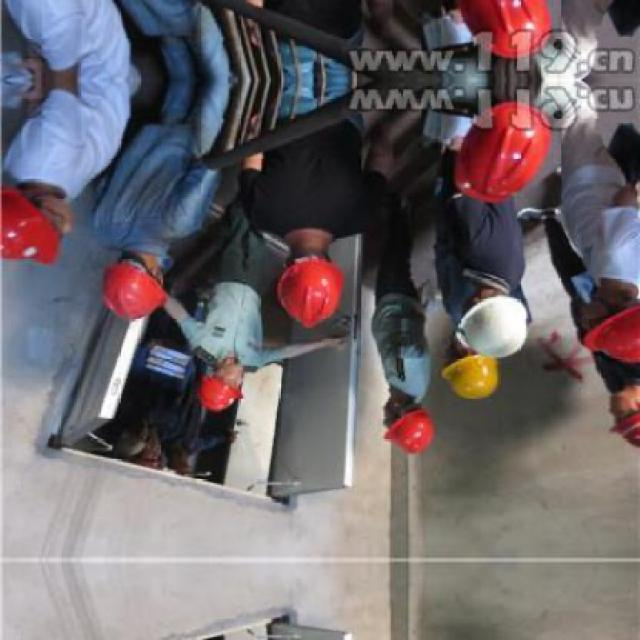con casco: (424, 118, 554, 232), (564, 248, 640, 376), (0, 165, 85, 270), (454, 273, 528, 384), (266, 243, 349, 324), (101, 249, 190, 318), (193, 334, 264, 418), (442, 334, 493, 430), (383, 397, 438, 470)
